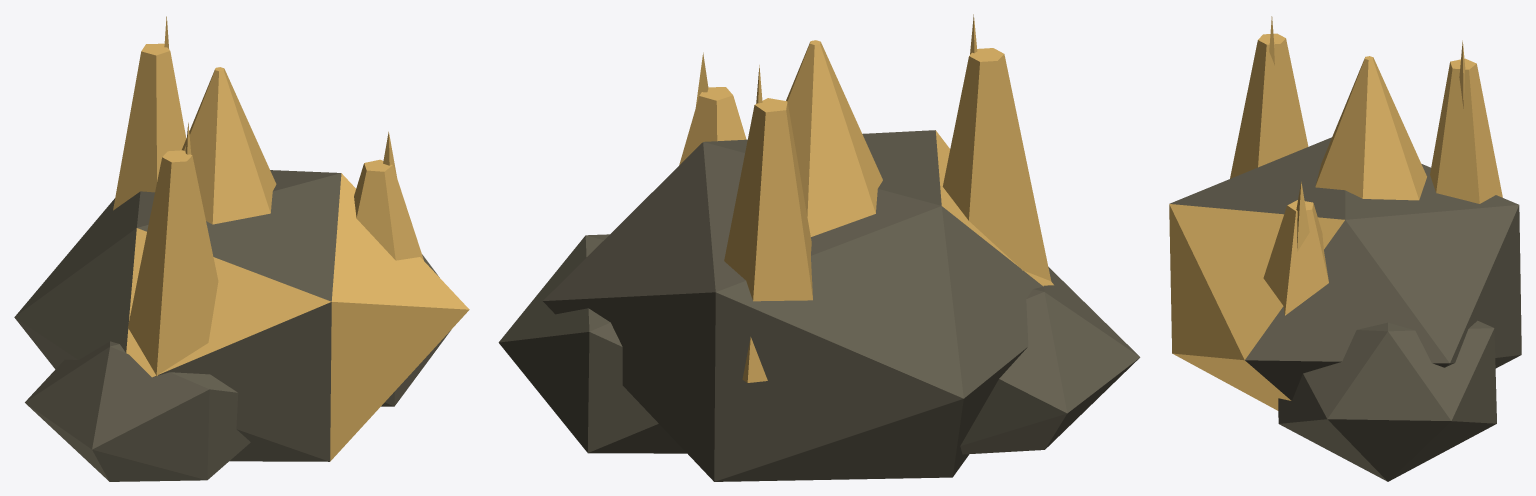
File: ore_gold_ore.obj
The picture shows the model from 3 angles, left to right: view 1: azimuth 30°, elevation 25°; view 2: azimuth 150°, elevation 25°; view 3: azimuth 270°, elevation 25°; orthographic projection. The views are drawn at different scales.
Parts seen in each view (by area): view 1: ore_gold_ore; view 2: ore_gold_ore; view 3: ore_gold_ore.
Part boxes in pixels (<box>): ore_gold_ore: <box>14,16,469,481</box>; ore_gold_ore: <box>498,14,1140,481</box>; ore_gold_ore: <box>1169,16,1521,481</box>.
Size of the model in its own units: 1.96 by 1.65 by 1.49.
